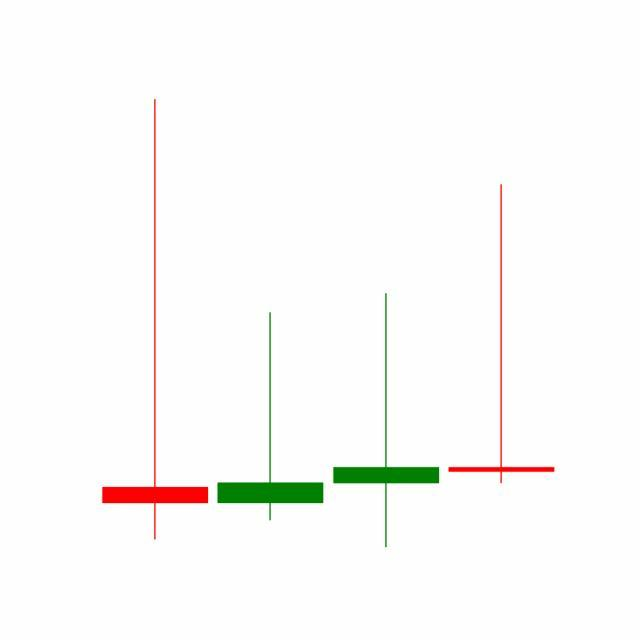Spinning Top: (329, 290, 445, 551)
